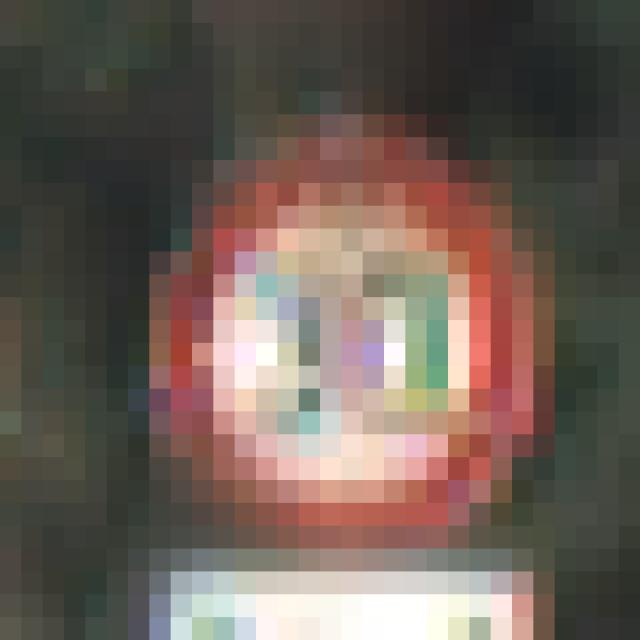Speed Limit -30-: (118, 103, 502, 514)
